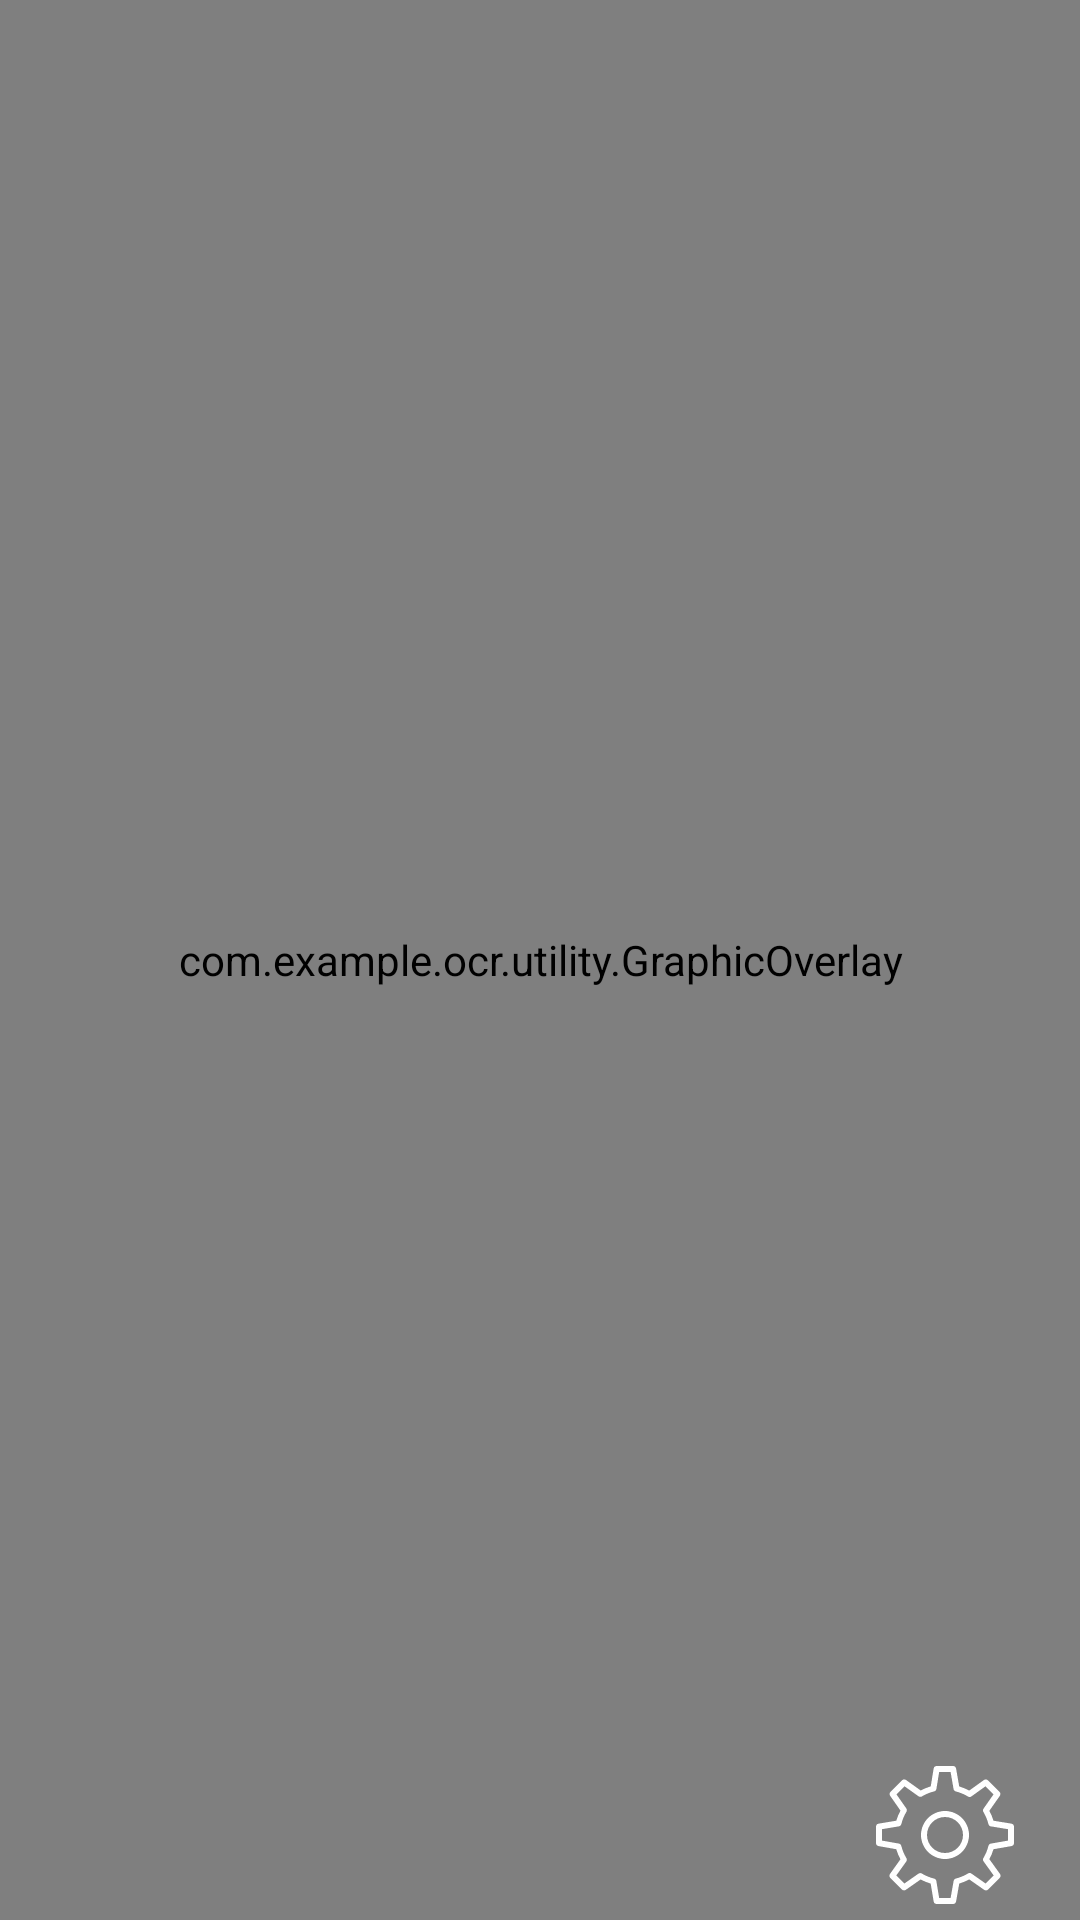

Named icons in this screenshot (1080px×1920px) and their centers, point (x, y):
settings: point (945, 1835)
